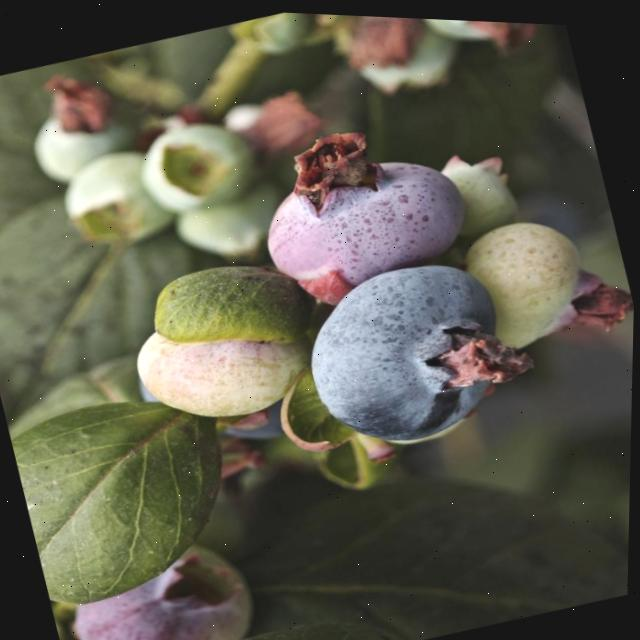RipeBlueBerry: (288, 235, 535, 462)
Semi-RipeBlueBerry: (244, 113, 483, 301), (59, 525, 269, 640)
